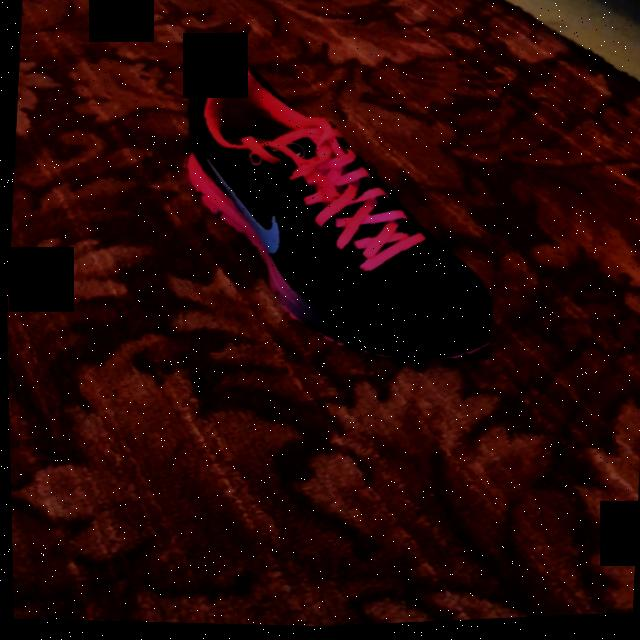shoe: (184, 69, 490, 362)
